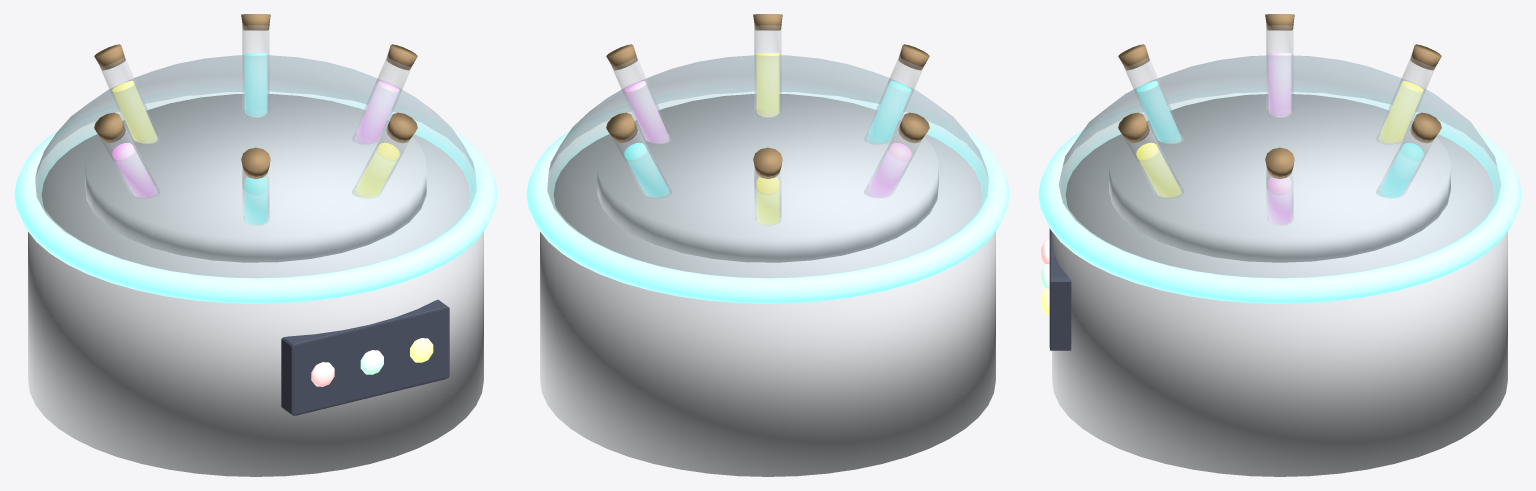
Rendered from L08_Centrifuge.glb.
3 renders of one model, left to right at view 1: azimuth 30°, elevation 25°; view 2: azimuth 150°, elevation 25°; view 3: azimuth 270°, elevation 25°, orthographic.
Parts seen in each view (by area): view 1: L08_Centrifuge_Mesh, L08_Lid, L08_RotorDisc, L08_RotorTube1_Glass, L08_RotorTube2_Glass, L08_RotorTube0_Glass, L08_RotorTube3_Glass, L08_RotorTube5_Glass, L08_RotorTube1_Liquid, L08_RotorTube2_Liquid, L08_RotorTube0_Liquid, L08_RotorTube5_Liquid (+8 smaller); view 2: L08_Centrifuge_Mesh, L08_Lid, L08_RotorDisc, L08_RotorTube5_Glass, L08_RotorTube0_Glass, L08_RotorTube4_Glass, L08_RotorTube3_Glass, L08_RotorTube1_Glass, L08_RotorTube5_Liquid, L08_RotorTube4_Liquid, L08_RotorTube0_Liquid, L08_RotorTube2_Glass (+8 smaller); view 3: L08_Centrifuge_Mesh, L08_Lid, L08_RotorDisc, L08_RotorTube3_Glass, L08_RotorTube4_Glass, L08_RotorTube2_Glass, L08_RotorTube1_Glass, L08_RotorTube5_Glass, L08_RotorTube3_Liquid, L08_RotorTube2_Liquid, L08_RotorTube4_Liquid, L08_RotorTube1_Liquid (+8 smaller).
Boxes of the visible parts, x1,y1,x2,y2 form: L08_Centrifuge_Mesh: (14,86,497,476); L08_Lid: (35,55,476,277); L08_RotorDisc: (85,94,426,262); L08_RotorTube1_Glass: (242,25,269,115); L08_RotorTube2_Glass: (100,56,159,143); L08_RotorTube0_Glass: (352,56,411,143); L08_RotorTube3_Glass: (100,125,159,197); L08_RotorTube5_Glass: (352,126,410,197); L08_RotorTube1_Liquid: (244,52,267,116); L08_RotorTube2_Liquid: (112,81,157,143); L08_RotorTube0_Liquid: (354,81,399,143); L08_RotorTube5_Liquid: (354,142,399,197); L08_Centrifuge_Mesh: (526,86,1009,476); L08_Lid: (547,55,988,277); L08_RotorDisc: (597,94,938,262); L08_RotorTube5_Glass: (754,25,781,115); L08_RotorTube0_Glass: (612,56,671,143); L08_RotorTube4_Glass: (864,56,923,143); L08_RotorTube3_Glass: (864,125,923,197); L08_RotorTube1_Glass: (613,126,671,197); L08_RotorTube5_Liquid: (756,52,779,116); L08_RotorTube4_Liquid: (866,81,911,143); L08_RotorTube0_Liquid: (624,81,669,143); L08_RotorTube2_Glass: (754,167,781,225); L08_Centrifuge_Mesh: (1038,86,1521,476); L08_Lid: (1059,55,1500,277); L08_RotorDisc: (1109,94,1450,262); L08_RotorTube3_Glass: (1266,25,1293,115); L08_RotorTube4_Glass: (1124,56,1183,143); L08_RotorTube2_Glass: (1376,56,1435,143); L08_RotorTube1_Glass: (1376,125,1435,197); L08_RotorTube5_Glass: (1124,125,1183,197); L08_RotorTube3_Liquid: (1268,52,1291,116); L08_RotorTube2_Liquid: (1378,81,1423,143); L08_RotorTube4_Liquid: (1136,81,1181,143); L08_RotorTube1_Liquid: (1378,142,1423,197).
Size of the model in its own units: 2.12 by 1.45 by 2.12.
